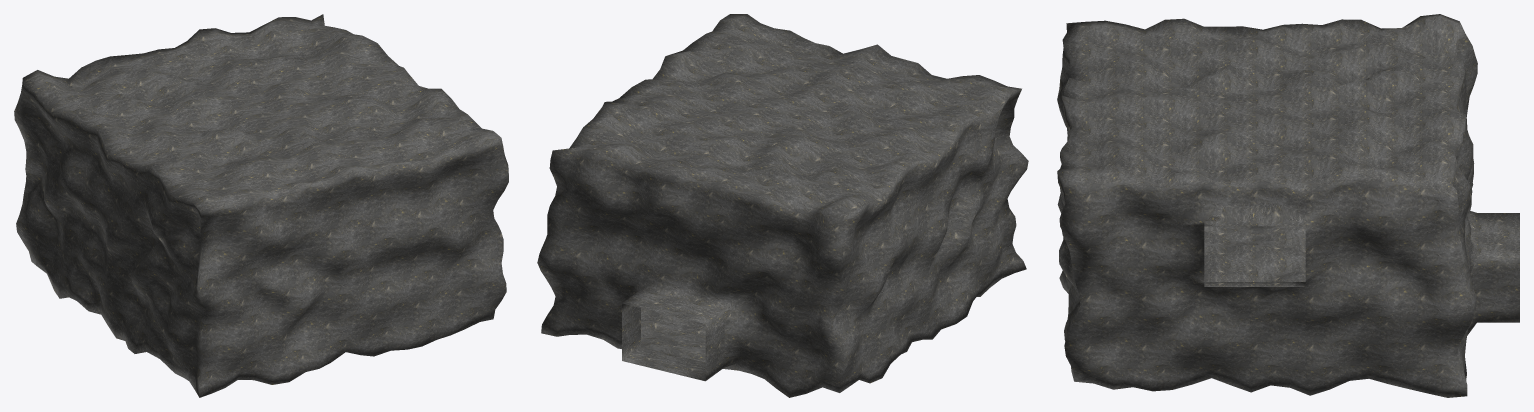
Rendered from large_cave.fbx.
3 views of the same model, side by side, from view 1: azimuth 30°, elevation 25°; view 2: azimuth 150°, elevation 25°; view 3: azimuth 270°, elevation 25° (orthographic). The views are drawn at different scales.
Visible parts, largest first — view 1: LargeCave; view 2: LargeCave; view 3: LargeCave.
Part boxes in pixels (x1=…): LargeCave: x1=14, y1=14, x2=508, y2=397; LargeCave: x1=537, y1=14, x2=1028, y2=397; LargeCave: x1=1057, y1=14, x2=1519, y2=397.
Bounding box in the file's own units: 7.45 × 4.5 × 8.3.
1 material, 1 textured.
